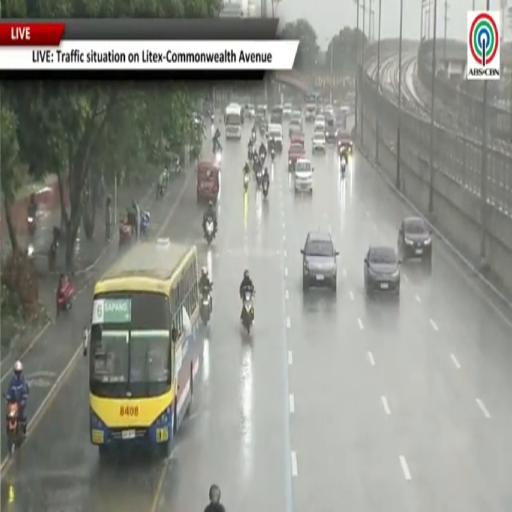bus: (88, 239, 202, 457), (225, 104, 242, 139), (305, 92, 319, 121)
car: (301, 231, 339, 292), (364, 247, 401, 295), (398, 216, 432, 264), (294, 157, 314, 194), (288, 143, 304, 171), (267, 124, 282, 152), (336, 130, 353, 154), (312, 132, 326, 152), (325, 118, 336, 142), (289, 119, 302, 137), (291, 133, 304, 148), (244, 104, 255, 120), (283, 103, 292, 119), (314, 121, 325, 133), (292, 109, 302, 122), (323, 105, 334, 116), (315, 115, 325, 124)
motorcycle: (6, 402, 24, 455), (57, 281, 74, 315), (48, 227, 60, 271), (200, 283, 212, 325), (242, 291, 254, 333), (119, 220, 133, 247), (48, 240, 58, 271), (204, 218, 215, 245), (140, 211, 150, 239), (156, 182, 165, 200), (27, 216, 35, 236), (254, 155, 262, 174), (262, 179, 269, 198), (256, 168, 262, 188), (340, 157, 346, 175), (244, 173, 249, 191), (248, 142, 253, 159), (259, 124, 266, 136), (216, 150, 221, 165), (251, 130, 256, 143), (271, 148, 275, 163)
